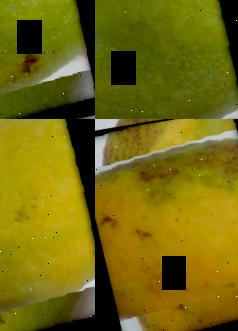PartiallyRipe: (0, 119, 95, 331)
Ripe: (95, 119, 238, 331)
Unripe: (95, 0, 238, 119), (0, 0, 95, 119)
